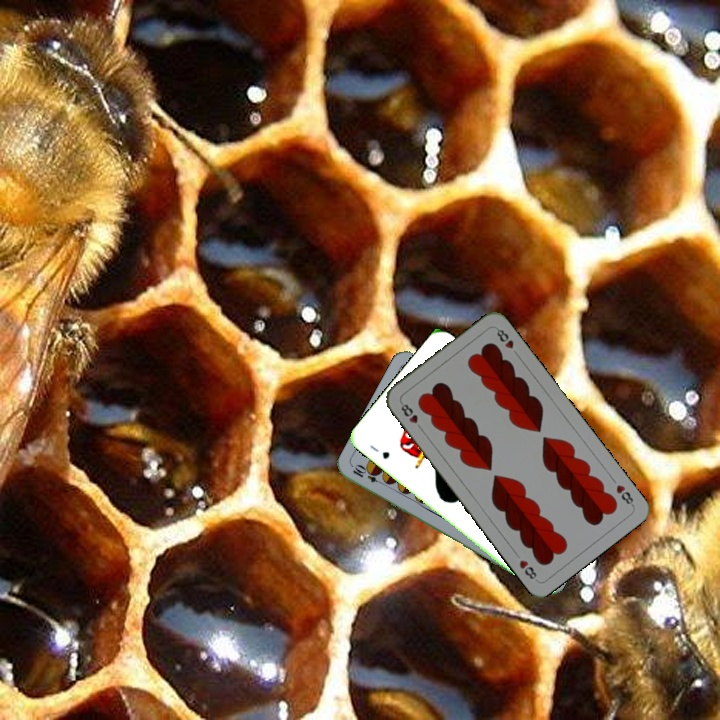E10: (349, 462, 388, 488)
GU: (365, 441, 392, 462)
H8: (396, 398, 425, 433), (612, 481, 637, 509)
